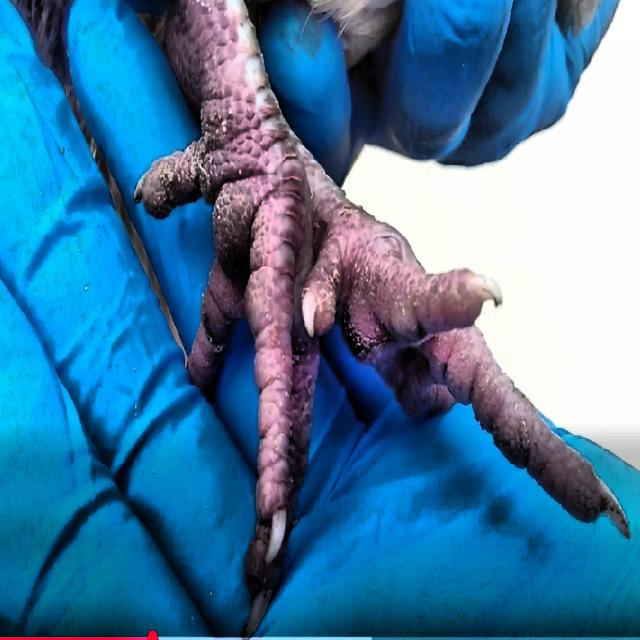Infectios bronchitis: (131, 69, 593, 553)
